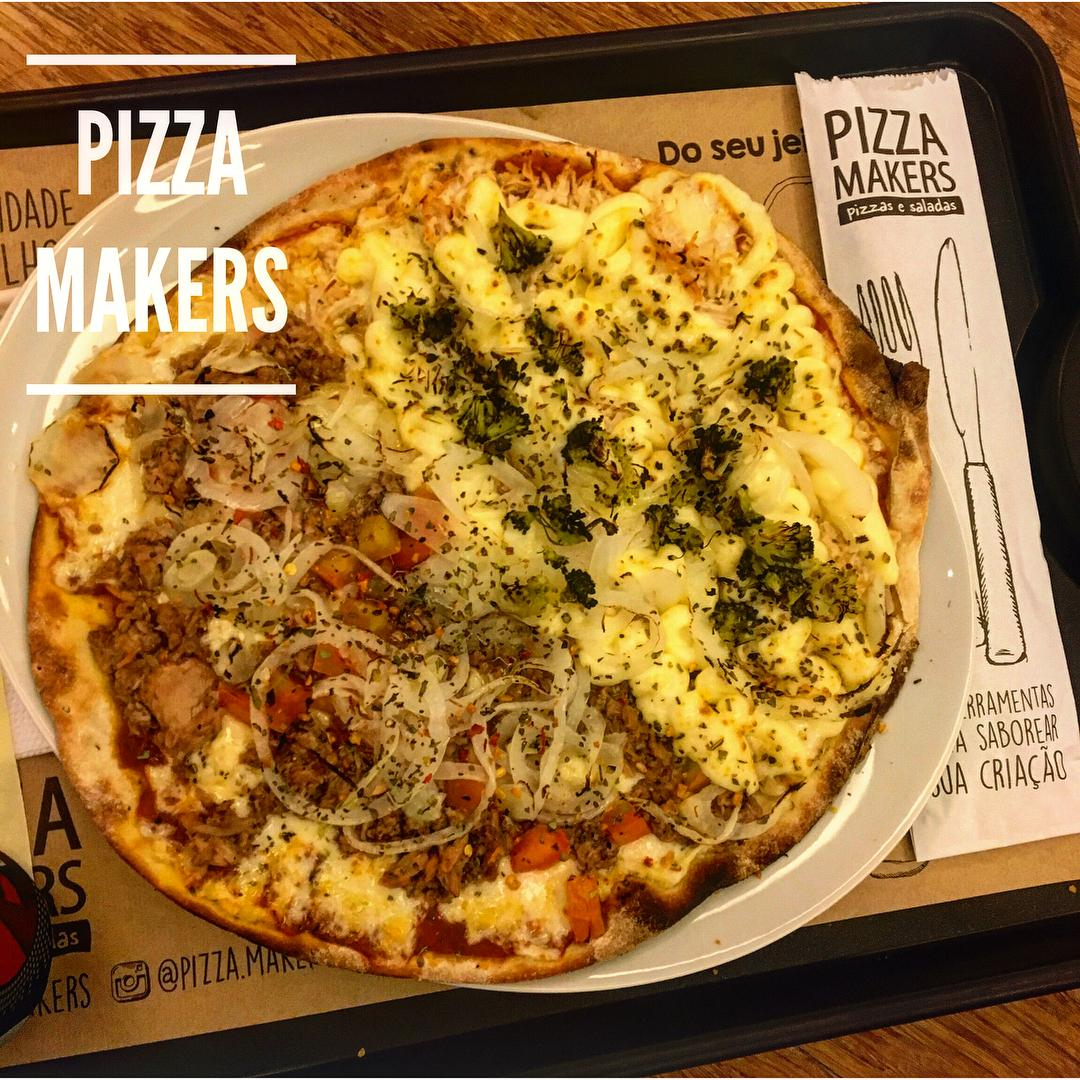Onion: (512, 700, 630, 821), (169, 524, 285, 606), (395, 659, 451, 793), (450, 676, 511, 783), (181, 462, 300, 513), (252, 793, 436, 824), (335, 824, 493, 857), (264, 628, 415, 658), (248, 659, 279, 793)
Pizza: (23, 137, 927, 980)
